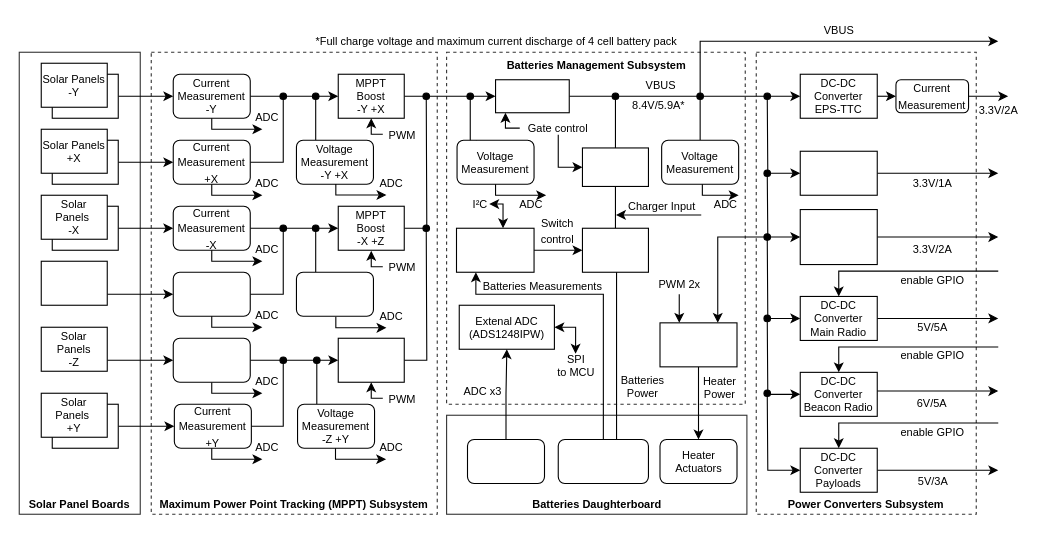
Image size: 1041x534. Some labels were removed from this diagram. Here are the shapes that lost their labels. From the top down, the centre of each, then its label:
At (x=531, y=96): "Solar Panels Kill-Switches".
At (x=614, y=166): "Batteries Kill-Switches".
At (x=838, y=172): "DC-DC Converter OBDH".
At (x=494, y=249): "Battery Monitor (DS2777G+)".
At (x=614, y=249): "Discharge and Charge Switches".
At (x=838, y=236): "DC-DC Converter Antenna Deployer".
At (x=73, y=282): "Solar Panels +Z".
At (x=211, y=293): "Current Measurement +Z".
At (x=334, y=293): "Voltage Measurement -X +Z".
At (x=211, y=359): "Current Measurement -Z".
At (x=370, y=359): "MPPT Boost -Z +Y".
At (x=698, y=344): "Heater Drivers".
At (x=505, y=460): "Temperature Measurement RTDS".
At (x=602, y=460): "Battery Cells".
